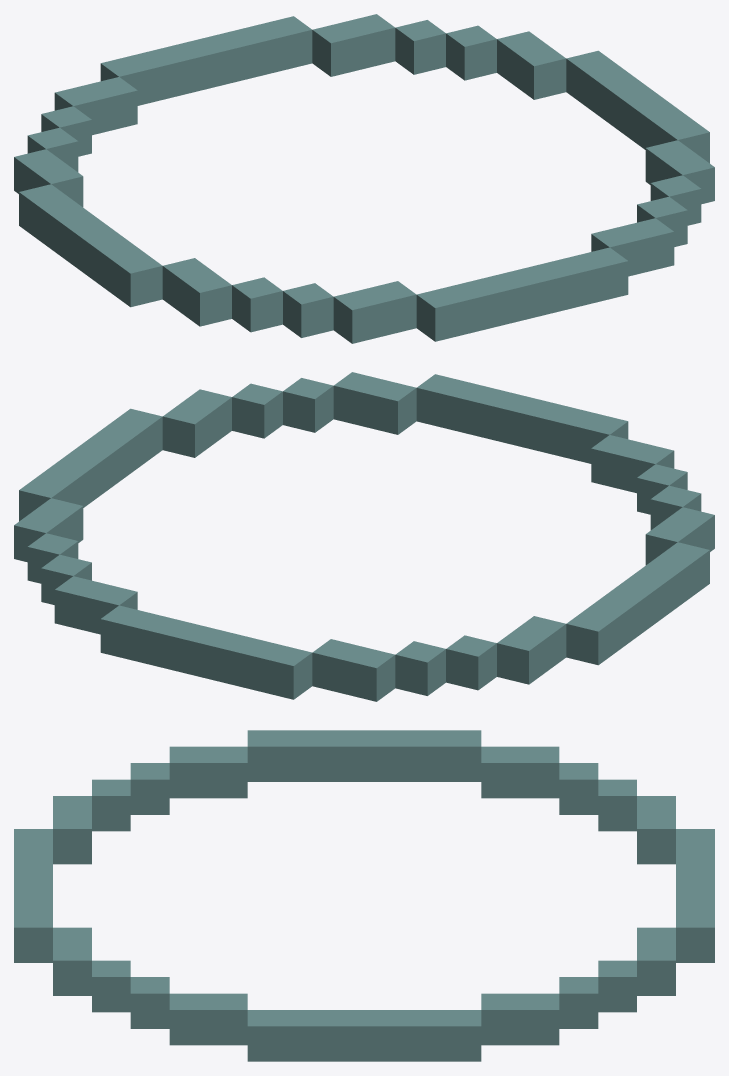
Rendered from Crystal_Ring_3.dae.
3 views of the same model, one above another, from view 1: azimuth 30°, elevation 25°; view 2: azimuth 150°, elevation 25°; view 3: azimuth 270°, elevation 25° (orthographic). The views are drawn at different scales.
Visible parts, largest first — view 1: Crystal_Ring_3; view 2: Crystal_Ring_3; view 3: Crystal_Ring_3.
Part boxes in pixels (left/top/right/bottom): Crystal_Ring_3: left=14, top=14, right=714, bottom=343; Crystal_Ring_3: left=14, top=372, right=714, bottom=701; Crystal_Ring_3: left=14, top=730, right=714, bottom=1061.
Size of the model in its own units: 0.45 by 0.45 by 0.025.
